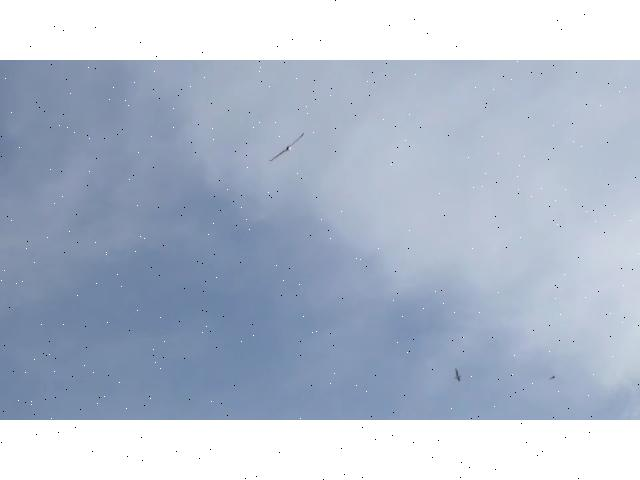Anti-Drone: (269, 134, 303, 162)
